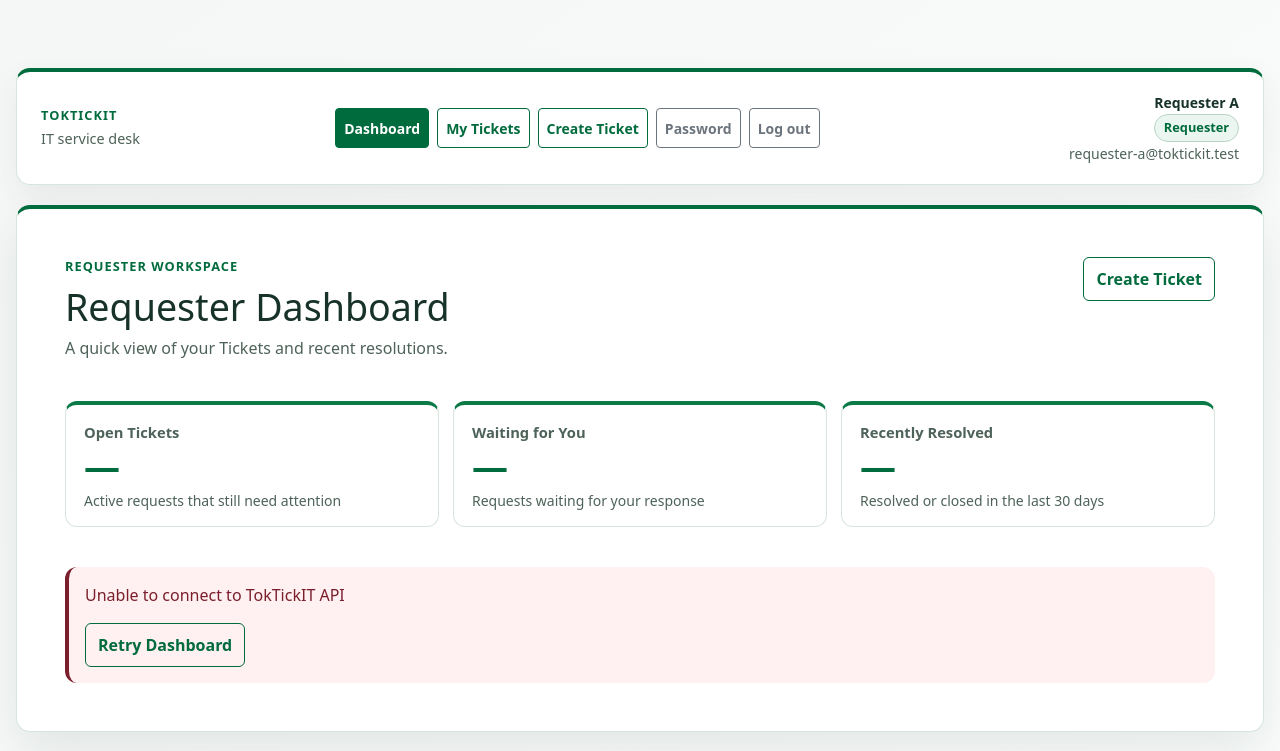
Test: Lab 3 Zen Green requester regression › marks the current requester page in the application navigation
Click the button "Create Ticket" in the row of "IT service desk" at {"x": 593, "y": 128}, box [538,108,648,148]
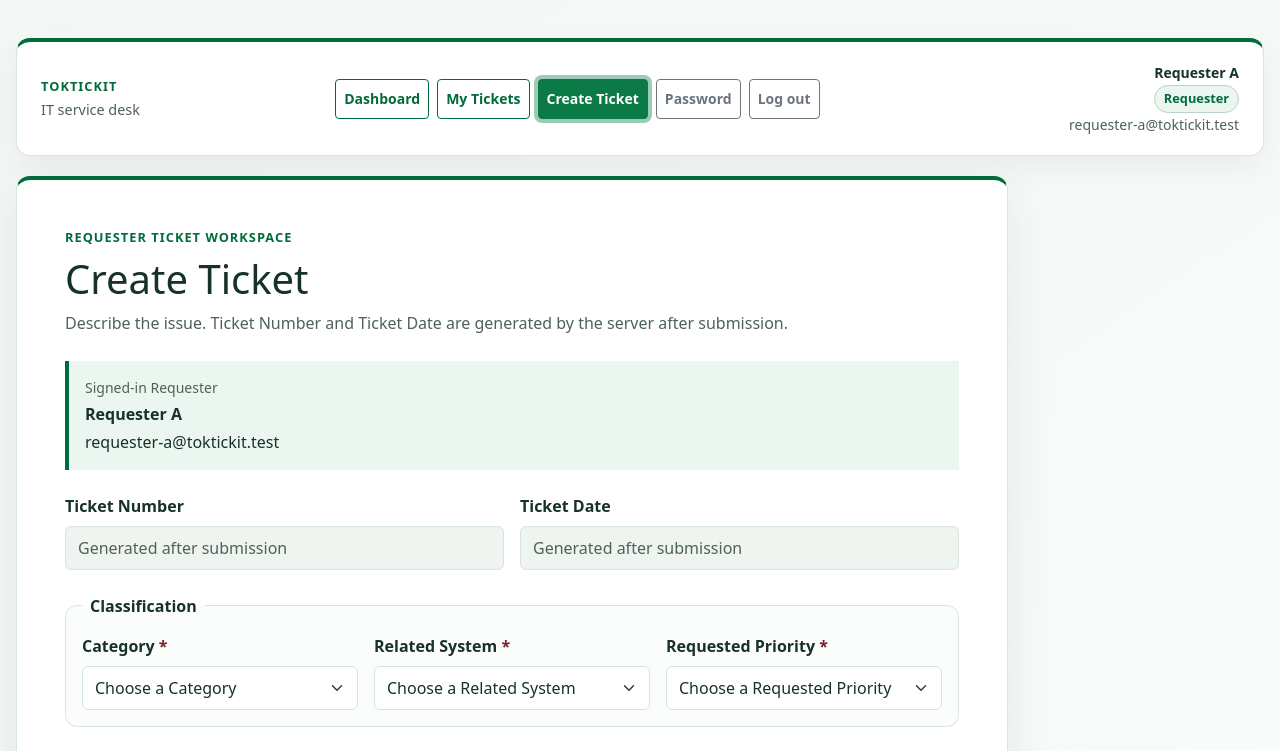
Expected: the heading "Create Ticket" is shown, [65,251,308,306]
Now the dropdown labelled "Category" is shown, box [82,666,358,710]
Click the button "My Tickets" at {"x": 483, "y": 99}, box [437,79,530,119]
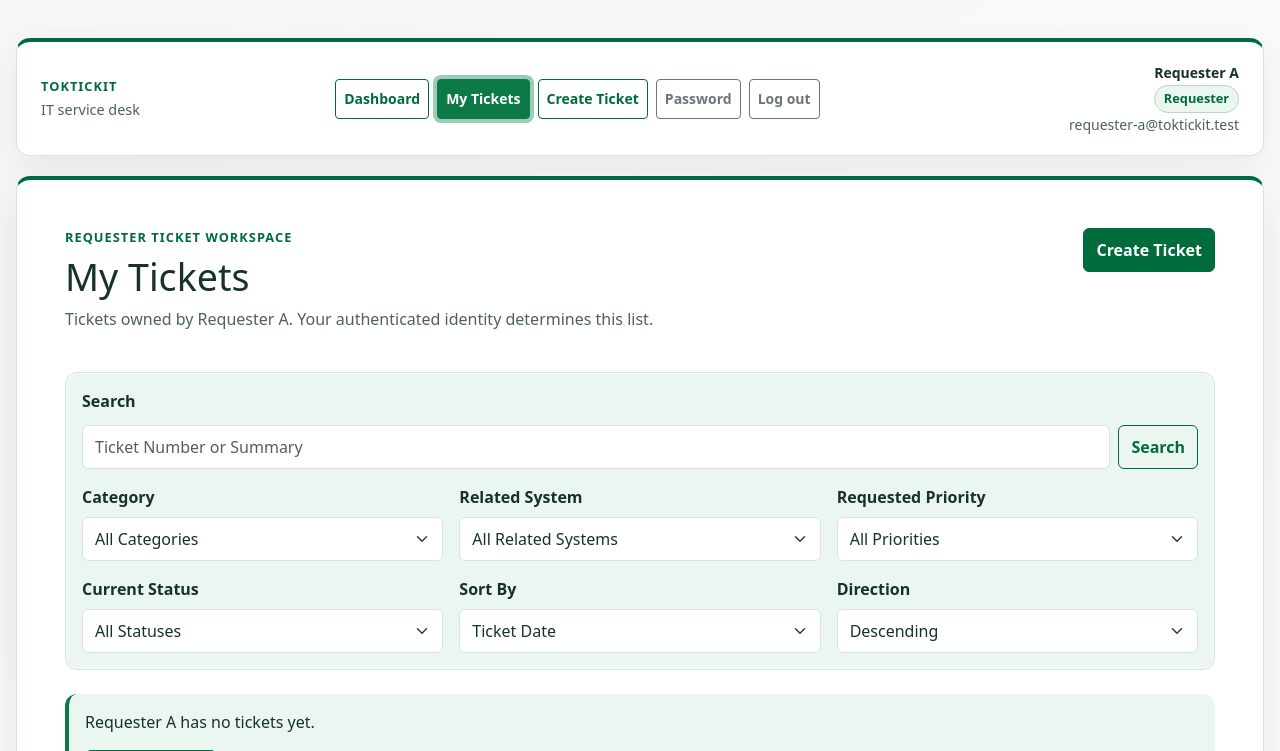
Now the heading "My Tickets" is shown, box [65,251,250,302]
